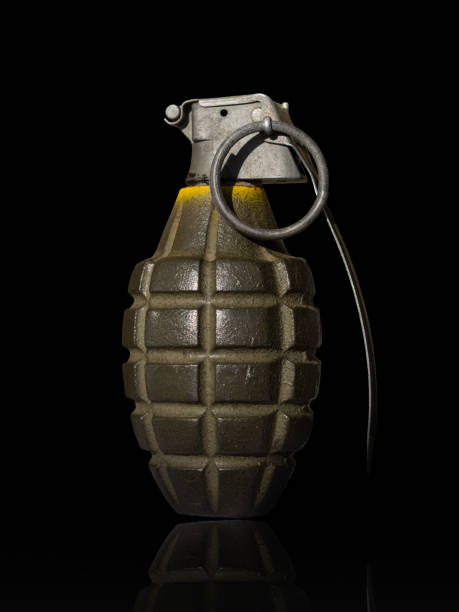e1: (114, 85, 380, 520)
